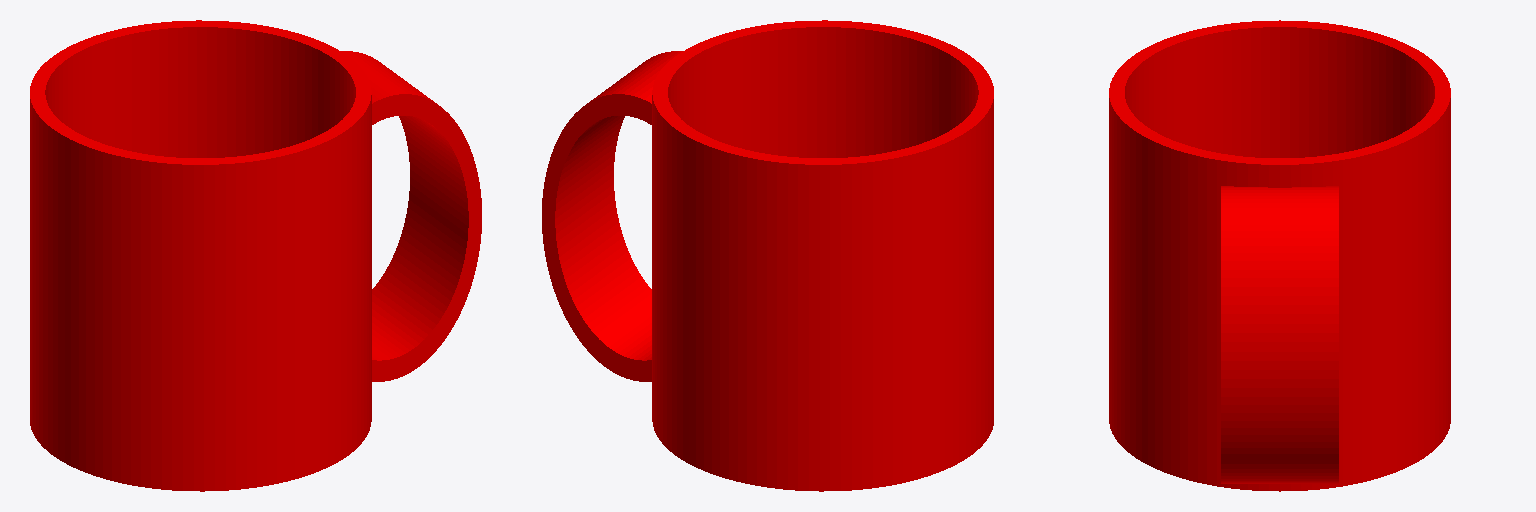
The robot description file, URDF, robot "mug.urdf":
<?xml version="1.0" ?>
<robot name="mug.urdf">
  <link name="baseLink">
    <inertial>
      <origin rpy="0 0 0" xyz="0 0 0"/>
       <mass value=".1"/>
       <inertia ixx="1" ixy="0" ixz="0" iyy="1" iyz="0" izz="1"/>
    </inertial>
    <contact>
      <lateral_friction value="1.0"/>
      <inertia_scaling value="3.0"/>
    </contact>
    <visual>
      <origin rpy="0 0 0" xyz="0 0 0"/>
      <geometry>
        <mesh filename="16.stl" scale="1 1 1" />
      </geometry>
      <material name="red">
        <color rgba="1 0 0 1"/>
      </material>
    </visual>
    <collision>
      <origin rpy="0 0 0" xyz="0 0 0"/>
      <geometry>
        <mesh filename="16_convex.obj" scale="1 1 1" />
      </geometry>
    </collision>
  </link>
</robot>

--- Facts derived from the render (not from the file) ---
3 views of the same robot in one strip: view 1: azimuth 30°, elevation 25°; view 2: azimuth 150°, elevation 25°; view 3: azimuth 270°, elevation 25° (orthographic).
Robot: mug.urdf — 1 links, 0 joints (none); root link baseLink; default pose: every joint at zero.
Links seen in each view (by area): view 1: baseLink; view 2: baseLink; view 3: baseLink.
Link boxes in pixels (x1,y1,x2,y2): baseLink: (30, 20, 481, 491); baseLink: (542, 20, 993, 491); baseLink: (1109, 20, 1450, 491).
Bounding box of the posed robot: 0.1482 × 0.1096 × 0.1155 m (x, y, z).
Meshes: 1 distinct files referenced, 1 mesh visuals loaded (1 binary STL).